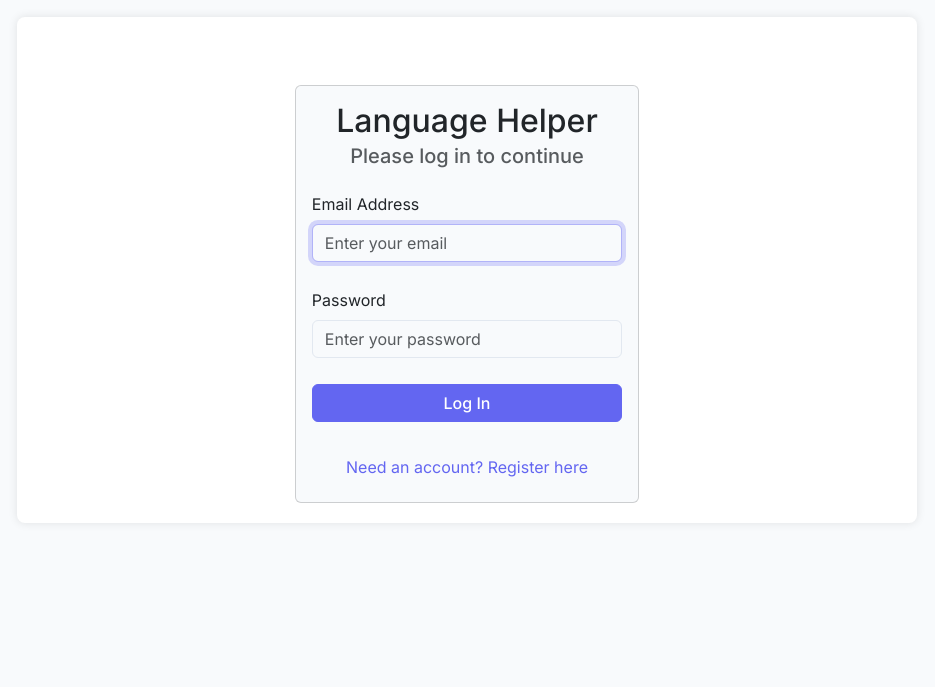
Test: Login Component › should show error for invalid auth code
The image size is (935, 687).
Click the button "Need an account? Register here" at (467, 467), box [333,448,601,486]
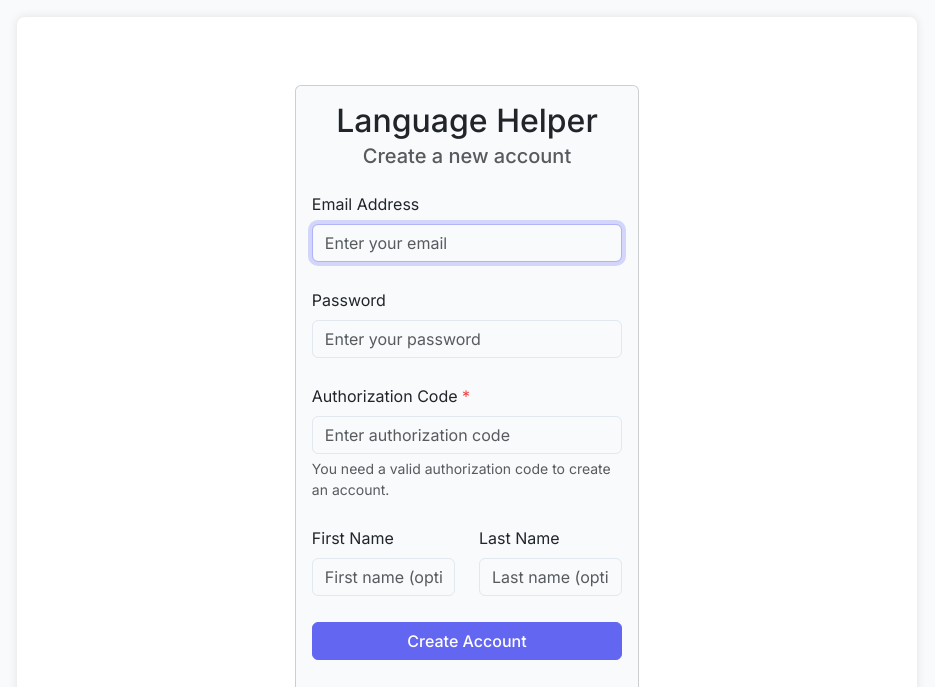
Note: Fill form with invalid auth code
Type "test@example.com" into the field labelled "Email Address" at (467, 243), box [312,224,622,262]
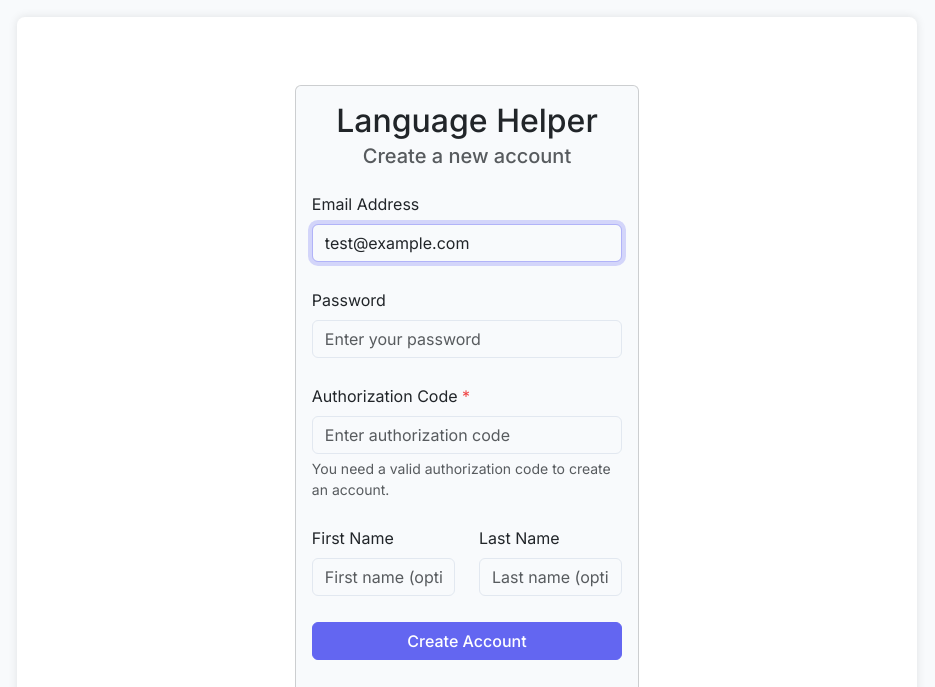
Type "TestPassword123!" into the password field labelled "Password" at (467, 339), box [312,320,622,358]
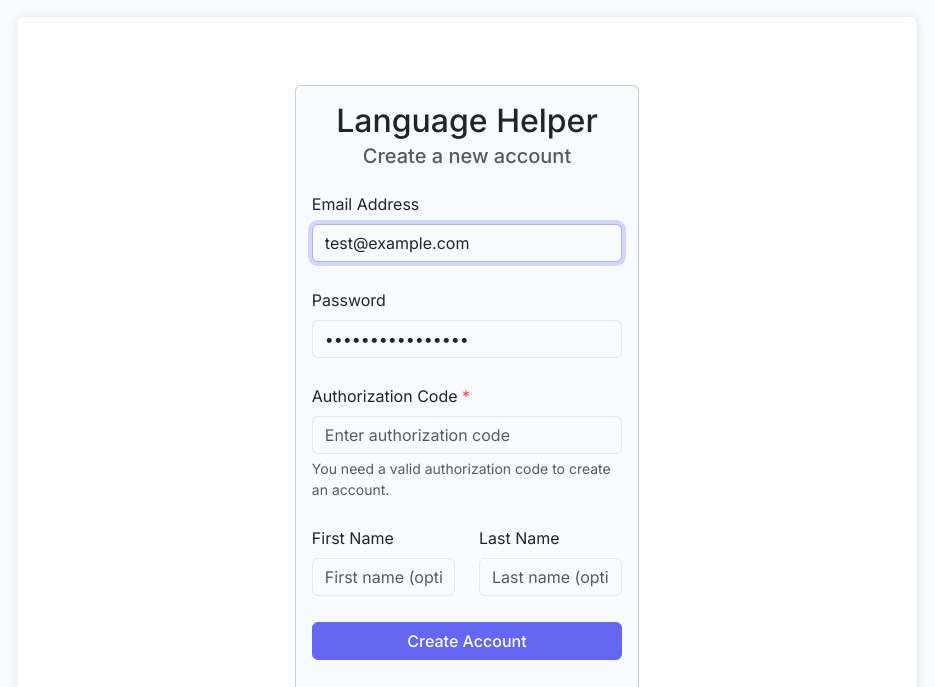
Type "invalid-code" into the field labelled "Authorization Code *" at (467, 435), box [312,416,622,454]
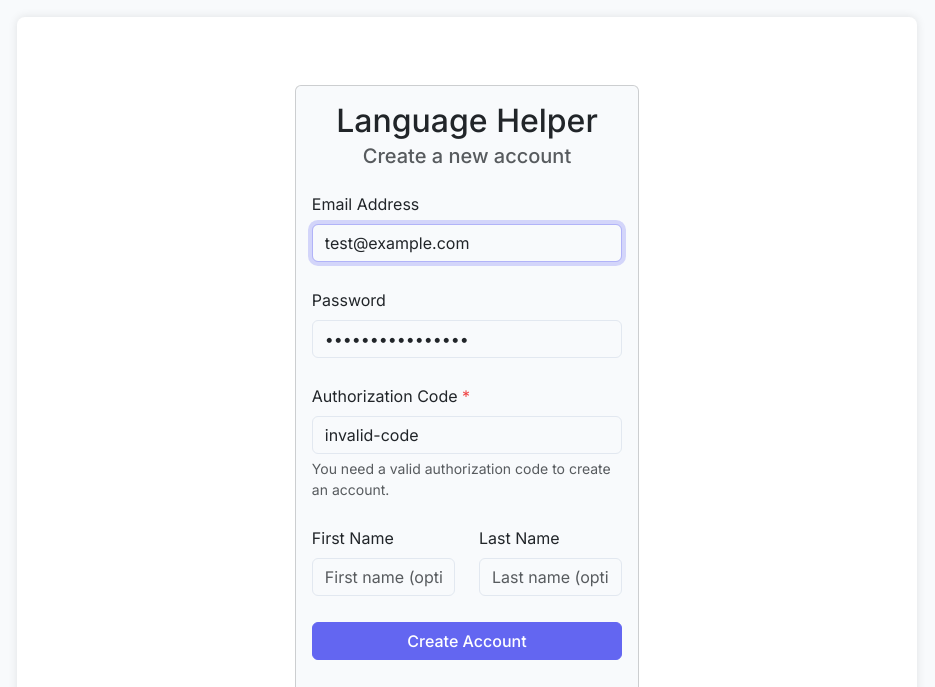
Click the button "Create Account" at (467, 641), box [312,622,622,660]
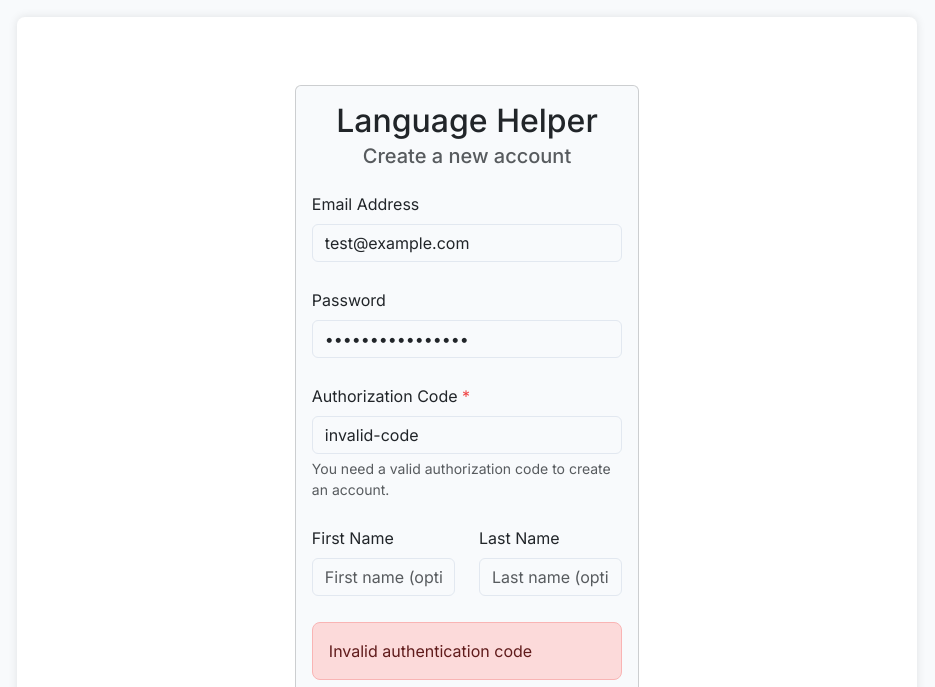
Expected: the text "Invalid authentication code" is shown, [312,622,622,680]
